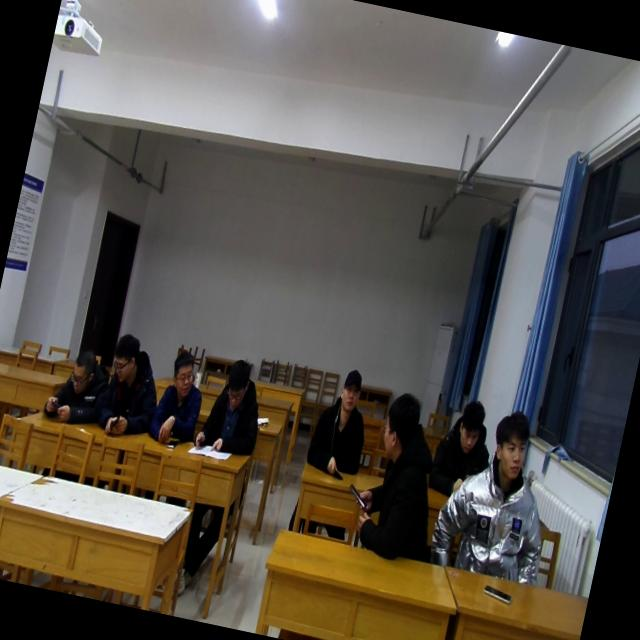bow: (41, 342, 114, 432)
down: (449, 392, 490, 458), (217, 352, 255, 416), (62, 342, 98, 400)
lookup: (483, 406, 538, 486), (332, 364, 368, 419)
sit: (424, 398, 572, 590), (344, 388, 461, 569), (288, 360, 380, 538), (192, 352, 274, 462), (89, 334, 170, 443), (427, 393, 502, 501), (145, 346, 212, 454)
